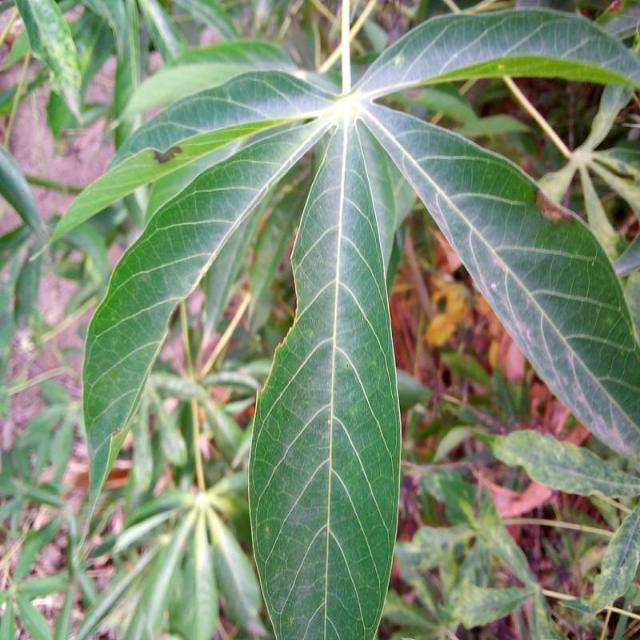cassava leaf: (53, 4, 638, 637), (246, 111, 404, 638)
